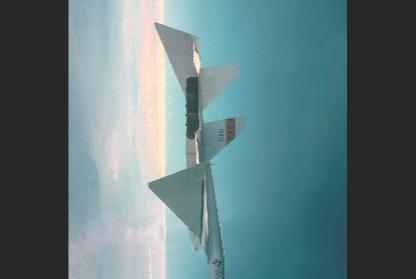U2: (149, 20, 247, 278)
